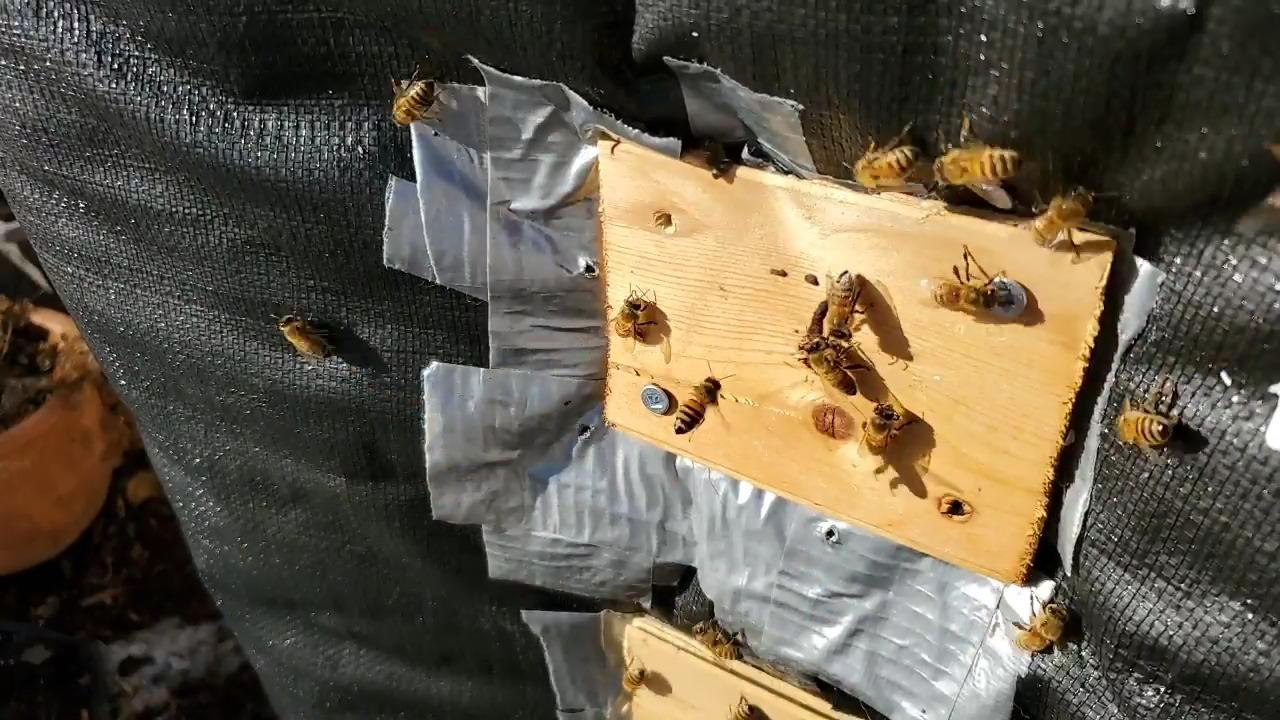bee: (1034, 184, 1098, 246), (931, 151, 1022, 190), (853, 146, 919, 191), (800, 343, 855, 396), (673, 374, 722, 431), (1017, 598, 1064, 654), (826, 267, 860, 343), (272, 316, 331, 359), (697, 622, 751, 667), (929, 281, 1003, 313), (389, 77, 438, 121), (1113, 408, 1173, 442), (866, 403, 897, 460), (618, 294, 644, 337), (623, 664, 647, 693), (726, 697, 755, 720)
